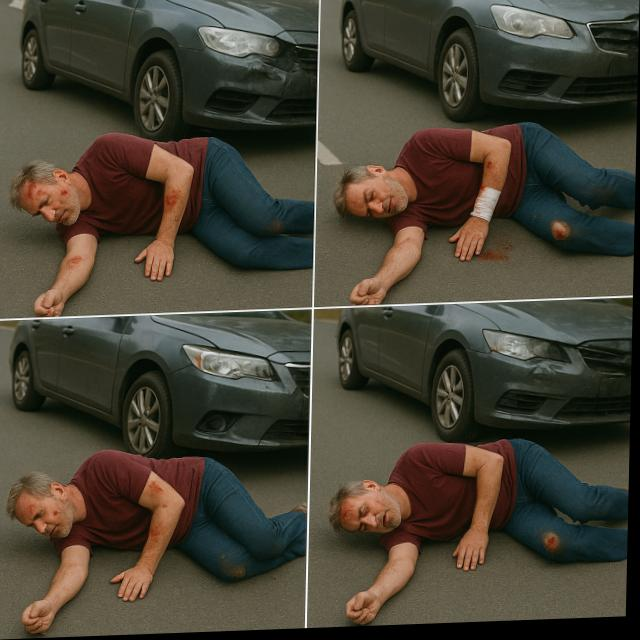injury: (144, 474, 170, 558), (471, 187, 500, 221), (20, 180, 50, 202), (60, 253, 91, 273), (164, 189, 185, 216), (339, 496, 355, 529), (541, 531, 561, 553), (550, 220, 570, 241), (24, 501, 42, 524), (52, 509, 61, 523), (62, 189, 69, 196), (487, 162, 493, 167)
